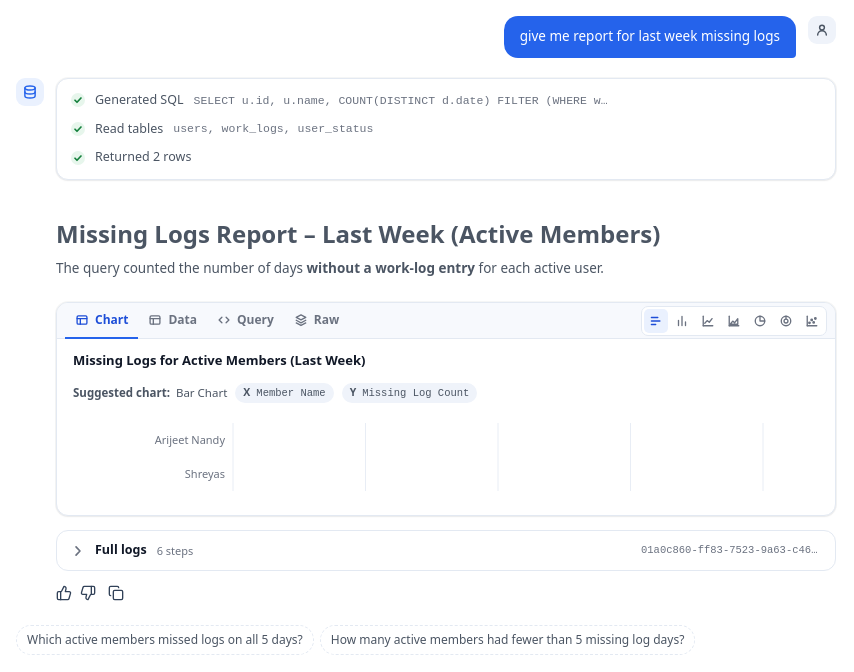
Test case: a live NL2SQL answer, field by field › draws the rows in the order and with the types the service declared
Click the tab "Data" at (173, 321), box [138, 303, 207, 339]
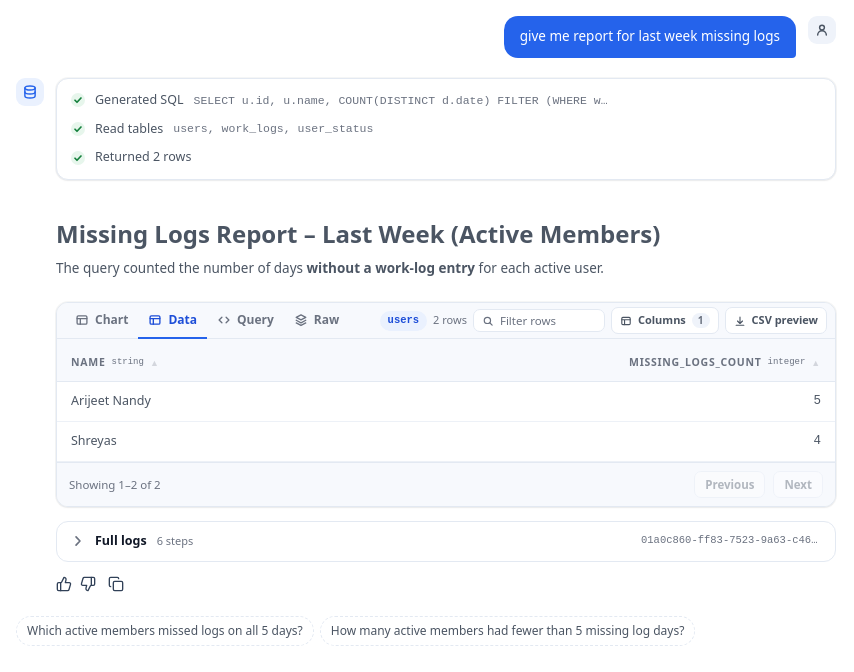
Check: the cell "Arijeet Nandy" is shown, box [57, 382, 326, 421]
Check: the number of cells "5" is 1, box [326, 382, 835, 421]
